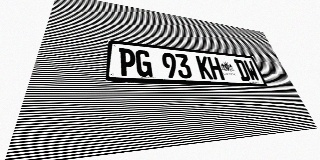3: (175, 53, 193, 79)
9: (161, 52, 179, 78)
D: (233, 59, 251, 81)
G: (135, 49, 153, 77)
H: (207, 57, 225, 80)
K: (195, 55, 214, 79)
P: (119, 48, 136, 76)
W: (243, 60, 261, 81)
